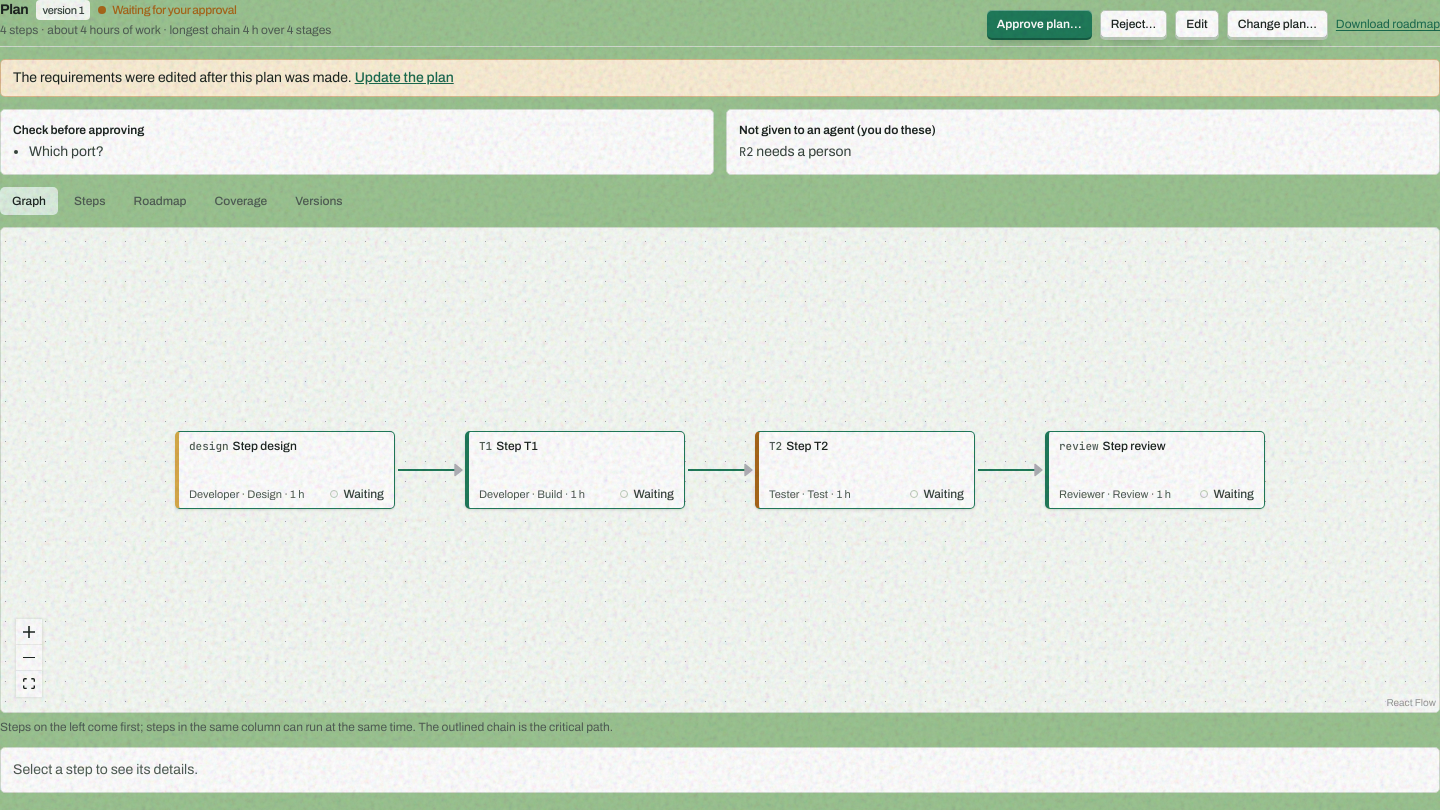
Test: PlanPanel › shows coverage with flagged requirements
Expected: the text "Waiting for your approval" is shown, [98,2,237,18]
Click the tab "Coverage" at (241, 201), box [203,187,279,215]
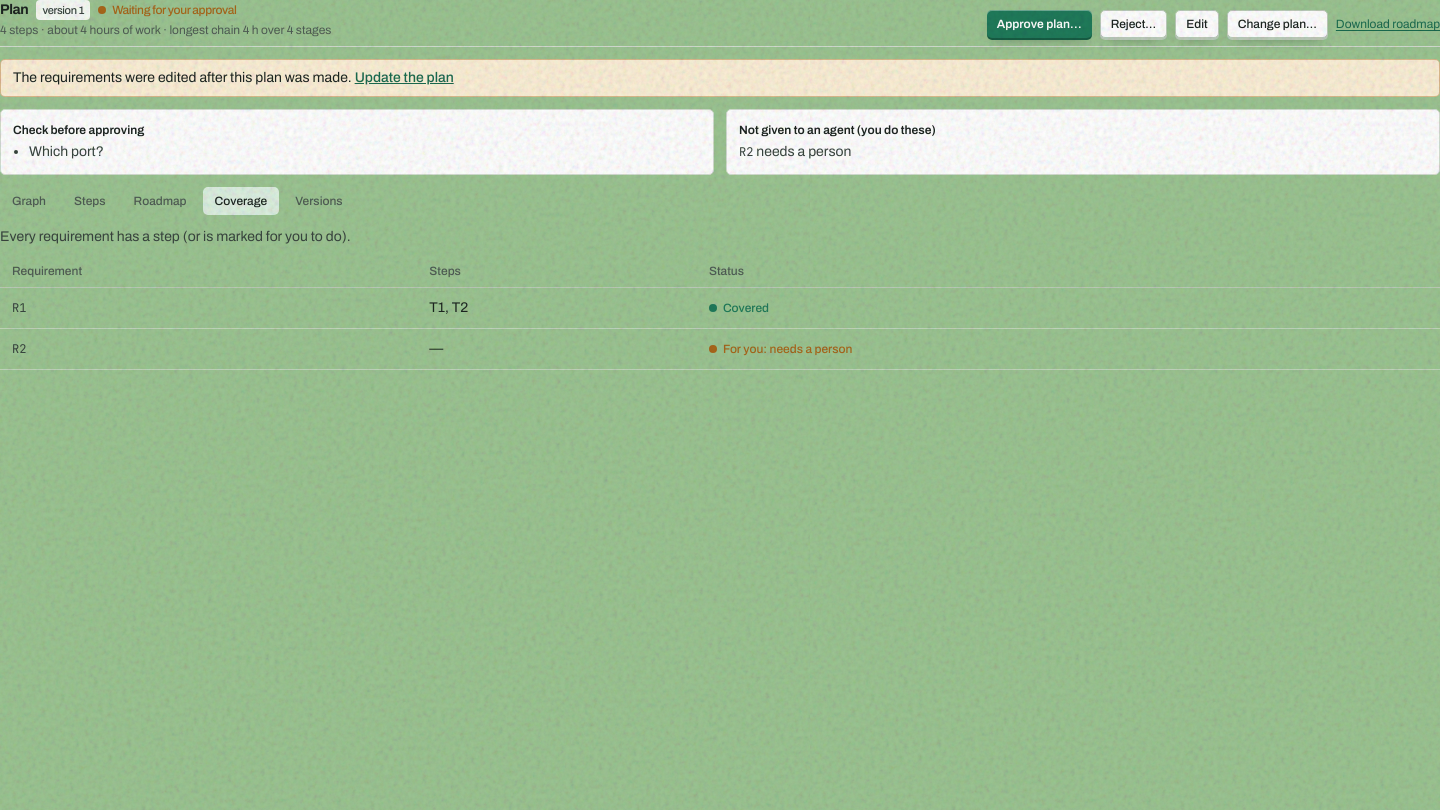
Expected: the text "For you: needs a person" is shown, [709,341,852,357]
Expected: the text "Every requirement has a step (or is marked for you to do)." is shown, [0,229,350,244]
